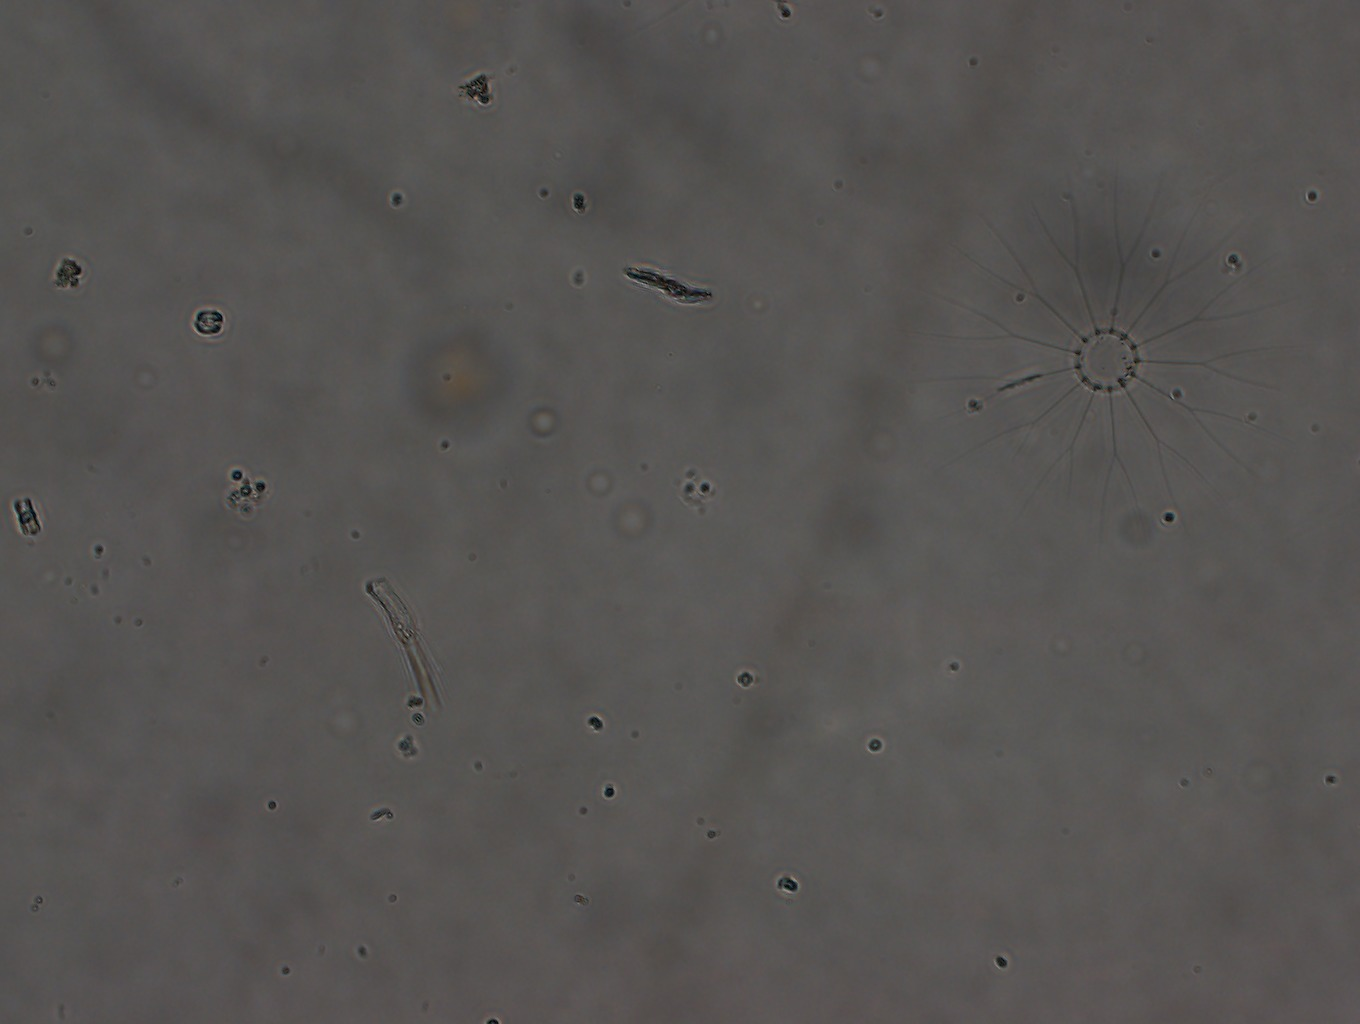bacteriastrum: (947, 196, 1286, 535)
